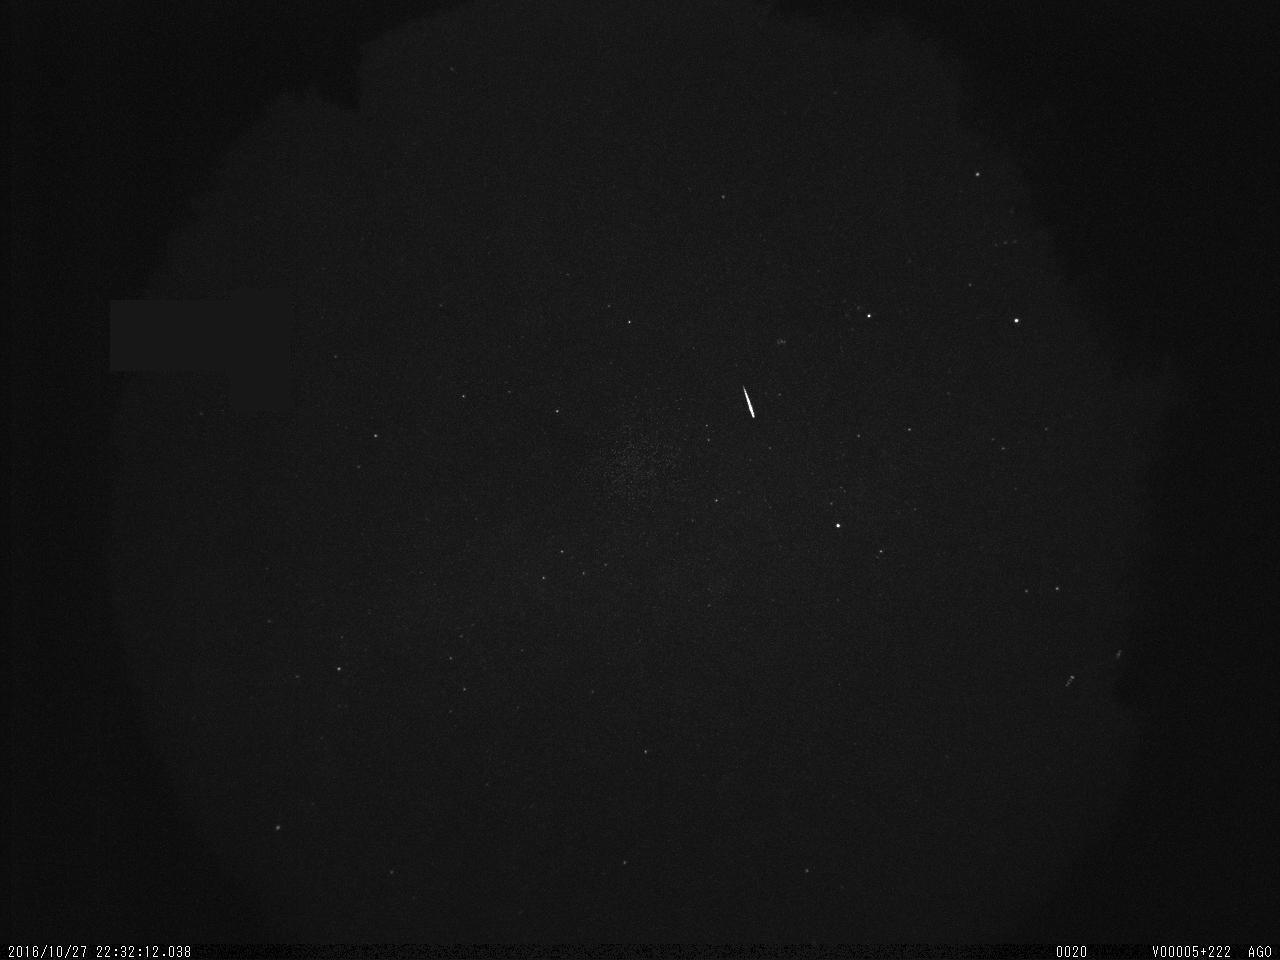Meteor: (739, 378, 762, 428)
